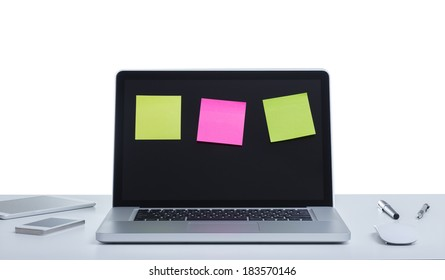Note: (262, 93, 316, 143), (196, 98, 244, 146), (134, 93, 181, 142)
